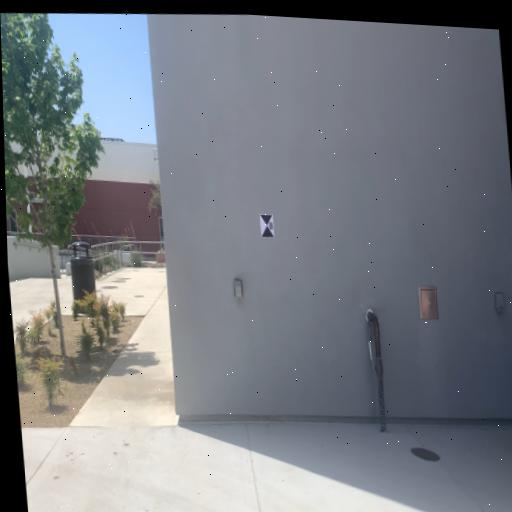target8: (259, 212, 276, 238)
